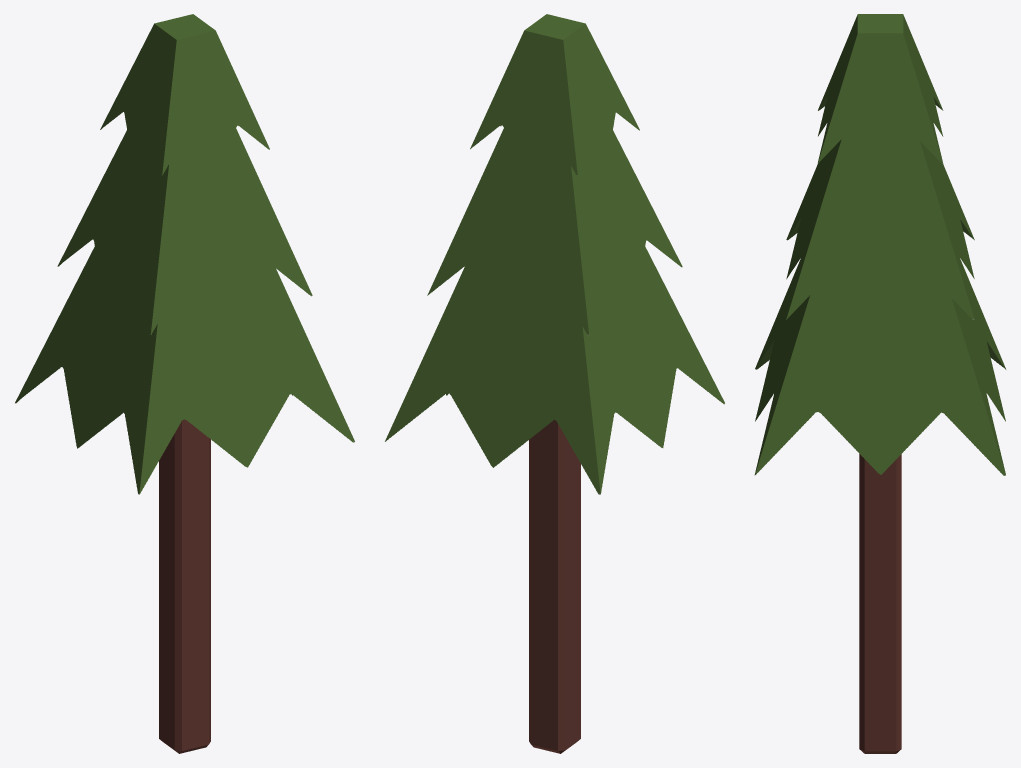
The model's file is Tree 3.fbx.
3 renders of one model, left to right at view 1: azimuth 30°, elevation 25°; view 2: azimuth 150°, elevation 25°; view 3: azimuth 270°, elevation 25°, orthographic.
Visible parts, largest first — view 1: Tree_Crown_3, Tree_Crown_2, Trunk, Tree_Crown_1; view 2: Tree_Crown_3, Tree_Crown_2, Trunk, Tree_Crown_1; view 3: Tree_Crown_3, Tree_Crown_2, Tree_Crown_1, Trunk.
Part boxes in pixels (box(x1,y1,x2,y2)): Tree_Crown_3: box(15, 246, 354, 494); Tree_Crown_2: box(57, 128, 312, 334); Trunk: box(159, 419, 210, 753); Tree_Crown_1: box(100, 14, 269, 175); Tree_Crown_3: box(385, 246, 724, 494); Tree_Crown_2: box(427, 128, 682, 335); Trunk: box(529, 420, 580, 753); Tree_Crown_1: box(470, 14, 639, 175); Tree_Crown_3: box(754, 259, 1006, 475); Tree_Crown_2: box(786, 132, 974, 319); Tree_Crown_1: box(817, 14, 943, 163); Trunk: box(859, 454, 901, 753).
Size of the model in its own units: 1.2 by 3.8 by 1.2.
Materials: 1 (1 with a texture image).
